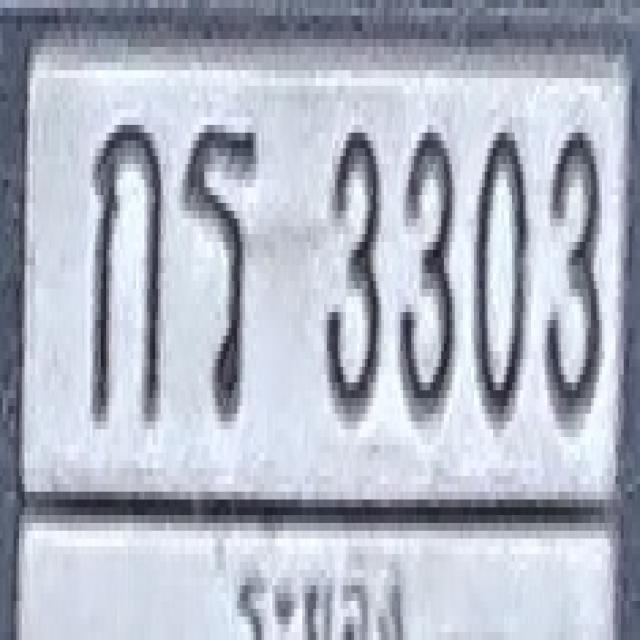-: (181, 117, 257, 414), (91, 117, 162, 422)
0: (472, 125, 527, 421)
3: (544, 125, 600, 421), (398, 125, 454, 414), (325, 125, 380, 414)
